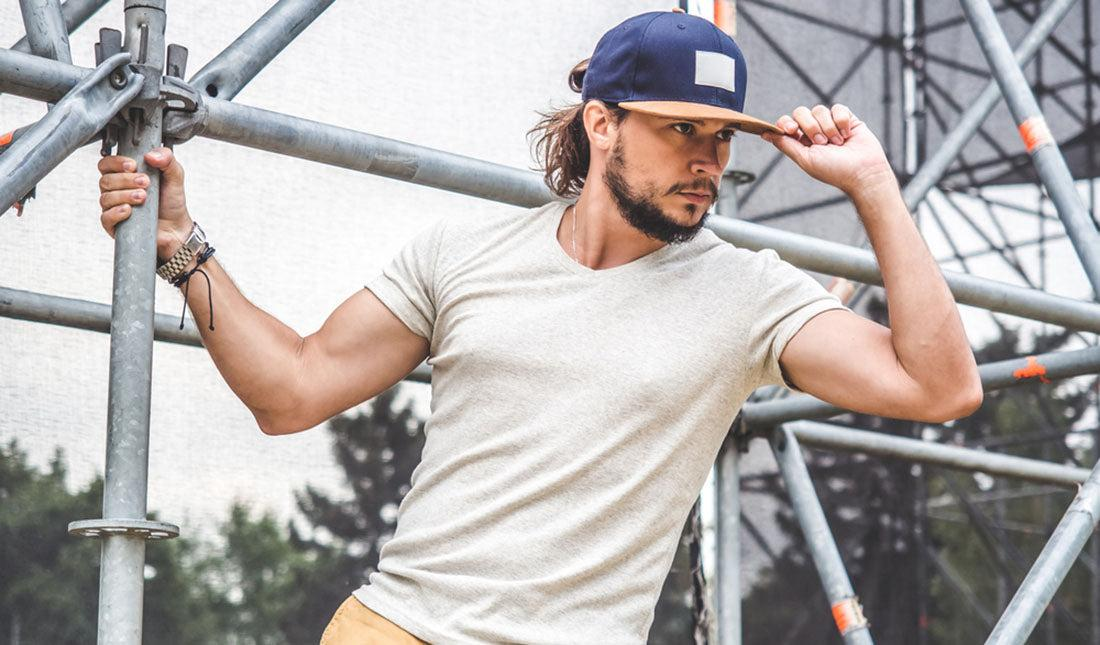cap: (553, 3, 805, 153)
